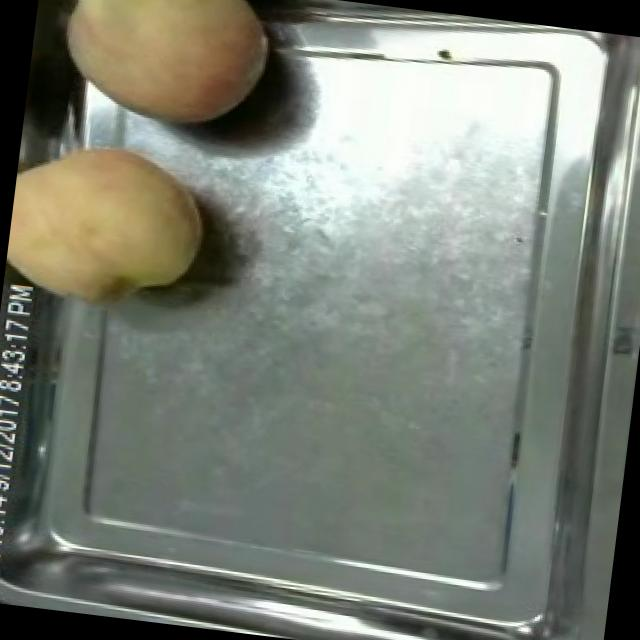Fruit: (0, 122, 221, 326), (40, 0, 285, 148)
